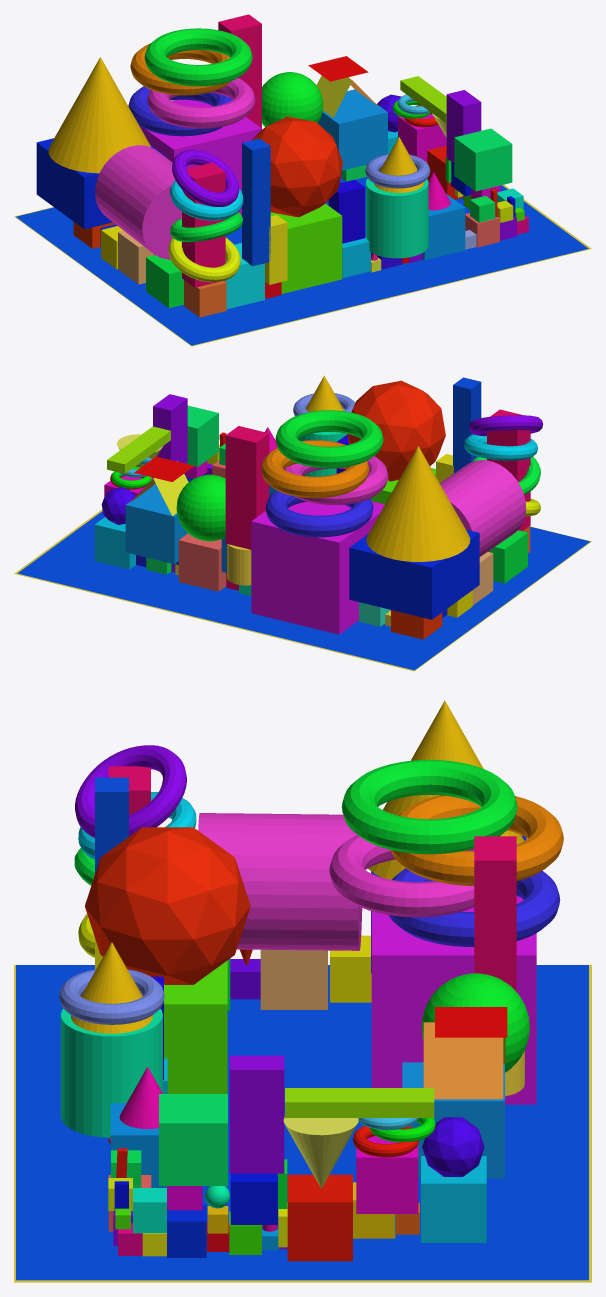
The model's file is modelo.glb.
3 renders of one model, top to bottom at view 1: azimuth 30°, elevation 25°; view 2: azimuth 150°, elevation 25°; view 3: azimuth 270°, elevation 25°, orthographic. The views are drawn at different scales.
Visible parts, largest first — view 1: Plane, Cylinder.003, Icosphere.001, Cone.006, Torus.006, Cube.034, Cylinder.002, Cube.057, Cube.063, Cube.065, Cube.022, Cube.052 (+33 smaller); view 2: Plane, Cube.022, Cube.065, Cone.006, Icosphere.001, Cylinder.003, Cube.060, Torus.006, Cube.057, Torus.005, Torus.003, Sphere.001 (+26 smaller); view 3: Plane, Icosphere.001, Cylinder.003, Cube.022, Torus.006, Cylinder.002, Cube.034, Cube.053, Torus.005, Cube.052, Torus.004, Cube.060 (+32 smaller).
Boxes of the visible parts, x1,y1,x2,y2 form: Plane: (16,176,588,345); Cylinder.003: (95,145,181,259); Icosphere.001: (251,116,342,217); Cone.006: (48,57,150,173); Torus.006: (144,28,252,86); Cube.034: (270,203,342,293); Cylinder.002: (366,178,428,258); Cube.057: (318,89,387,170); Cube.063: (242,138,270,266); Cube.065: (36,138,166,229); Cube.022: (139,99,261,215); Cube.052: (454,128,512,191); Plane: (17,511,590,670); Cube.022: (251,501,384,634); Cube.065: (349,529,479,619); Cone.006: (366,446,470,561); Icosphere.001: (347,380,445,481); Cylinder.003: (440,460,526,556); Cube.060: (225,426,269,549); Torus.006: (275,410,383,468); Cube.057: (125,483,187,564); Torus.005: (261,440,368,498); Torus.003: (265,490,373,537); Sphere.001: (176,474,225,541); Plane: (16,965,588,1280); Icosphere.001: (85,827,250,984); Cylinder.003: (198,813,362,950); Cube.022: (371,896,536,1104); Torus.006: (341,760,517,854); Cylinder.002: (60,1008,162,1137); Cube.034: (164,960,227,1093); Cube.053: (229,1055,284,1173); Torus.005: (391,795,563,885); Cube.052: (159,1094,227,1185); Torus.004: (329,834,474,917); Cube.060: (474,836,516,991).
Bounding box in the file's own units: 44.76 × 19.34 × 34.08.
